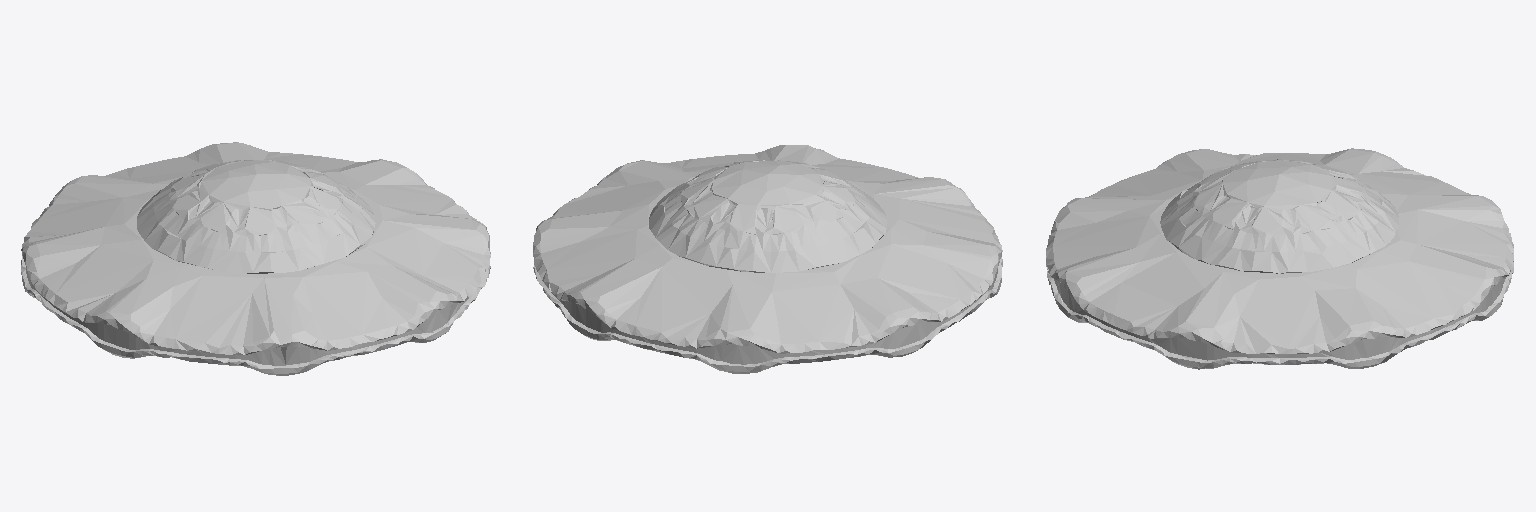
File: frame_090.obj
The picture shows the model from 3 angles: view 1: azimuth 30°, elevation 25°; view 2: azimuth 150°, elevation 25°; view 3: azimuth 270°, elevation 25°; orthographic projection.
Parts seen in each view (by area): view 1: 13884_UFO_Saucer_v1_l2; view 2: 13884_UFO_Saucer_v1_l2; view 3: 13884_UFO_Saucer_v1_l2.
Part boxes in pixels (x1,y1,x2,y2): 13884_UFO_Saucer_v1_l2: (21,142,490,375); 13884_UFO_Saucer_v1_l2: (533,145,1002,373); 13884_UFO_Saucer_v1_l2: (1046,148,1513,369).
Size of the model in its own units: 12.69 by 4.88 by 12.7.